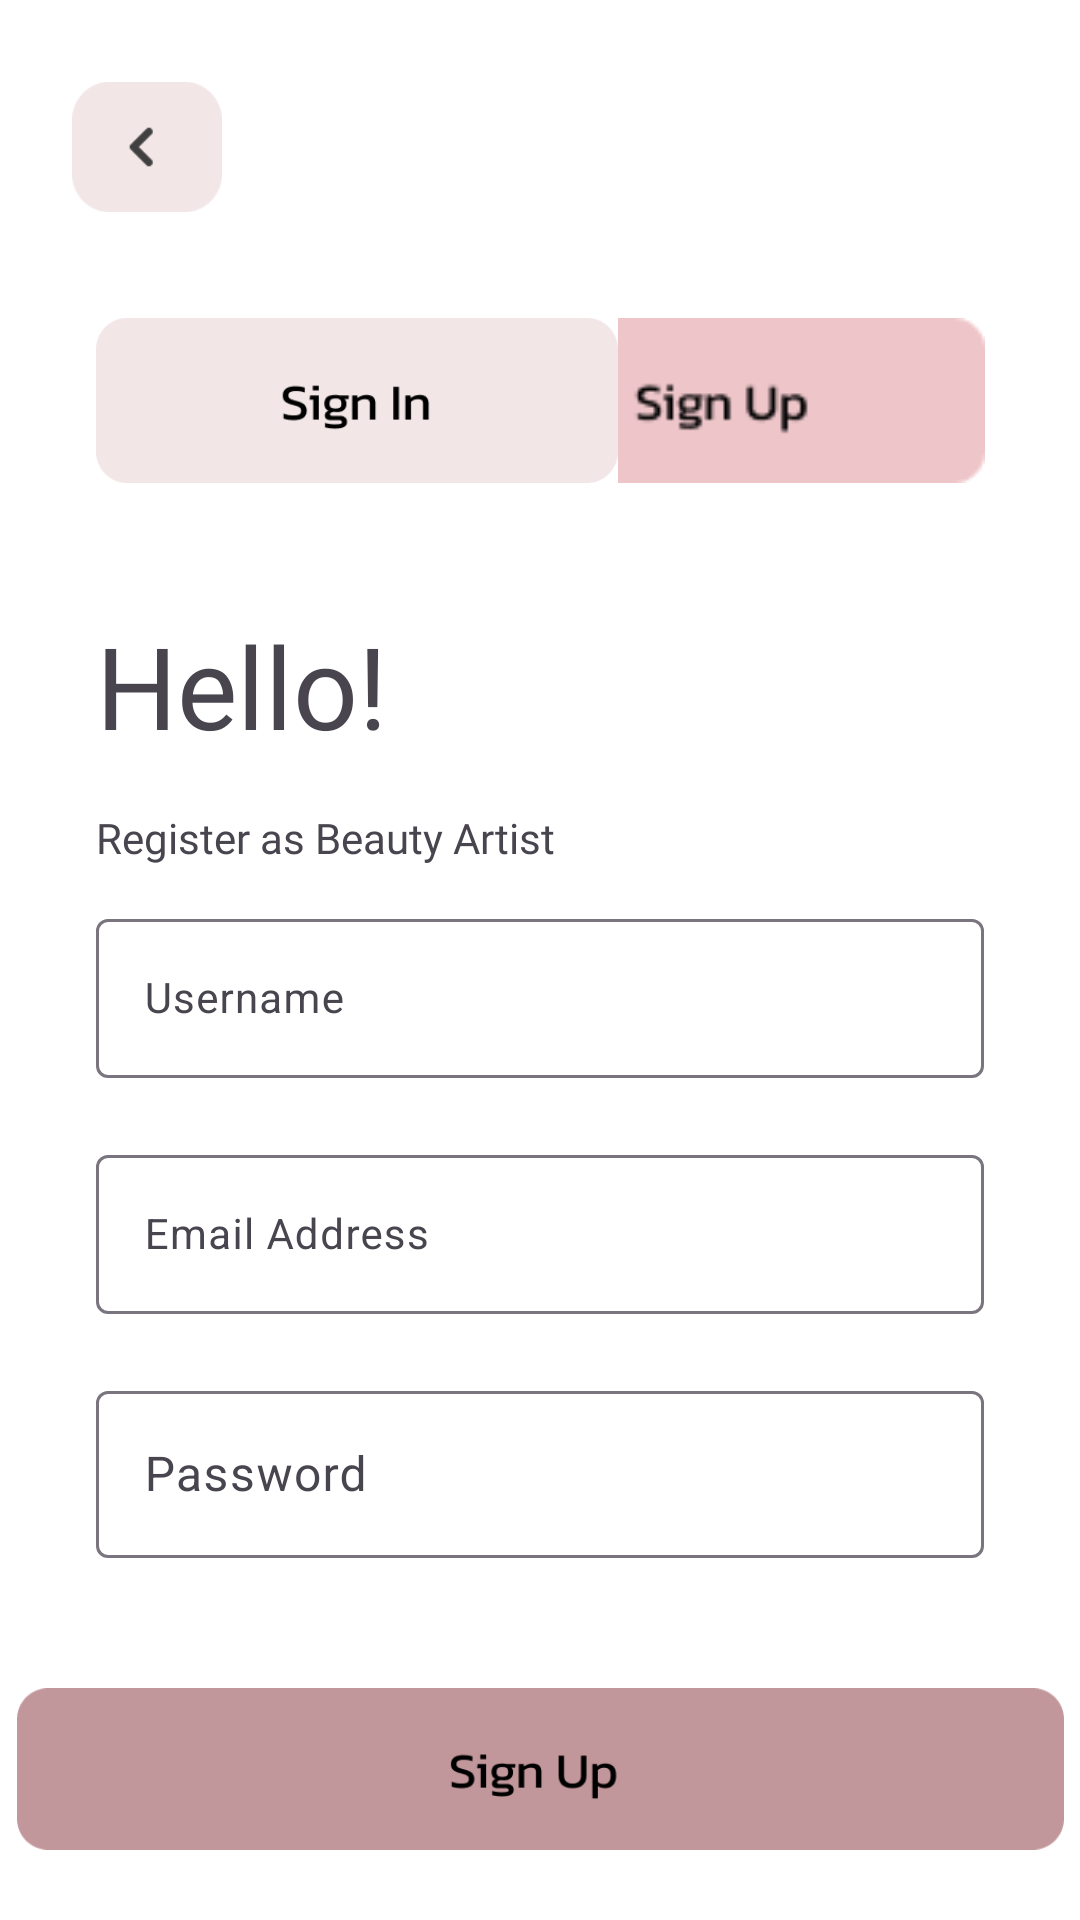

Named icons in this screenshot (1080 × 1920) and their centers, (x=x, y=y):
back: (x=147, y=147)
